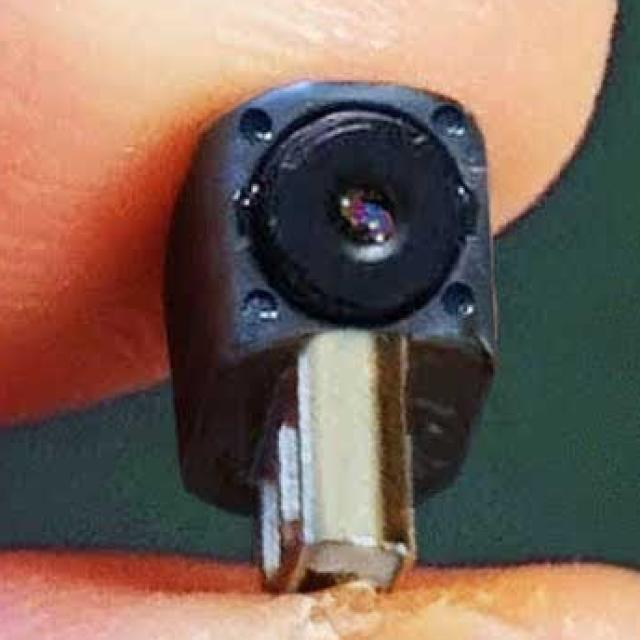hidden camera: (202, 77, 539, 359)
